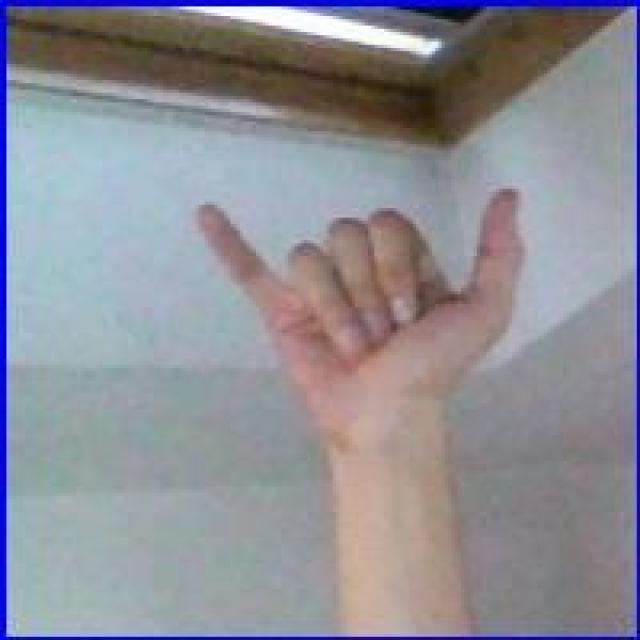Y: (187, 189, 546, 422)
